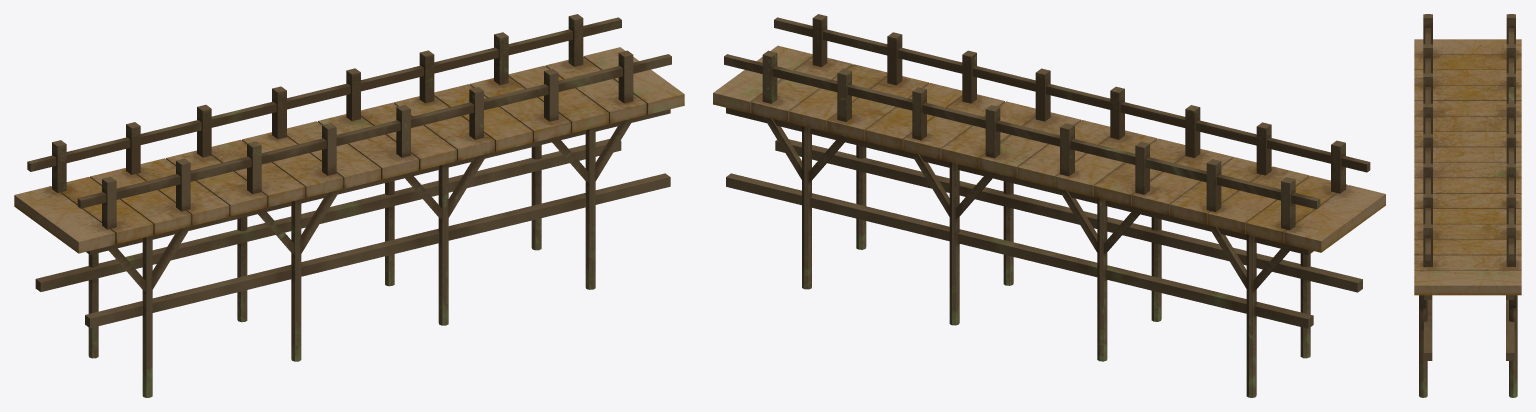
The model's file is Puente de madera I.fbx.
The picture shows the model from 3 angles, left to right: view 1: azimuth 30°, elevation 25°; view 2: azimuth 150°, elevation 25°; view 3: azimuth 270°, elevation 25°; orthographic projection. The views are drawn at different scales.
Parts seen in each view (by area): view 1: puente3.044, puente3.045, puente3.022, puente3.023, puente3.021, puente3.046, puente3.019, puente3.011, puente3.008, puente3.013, puente3.004, puente3.006 (+37 smaller); view 2: puente3.045, puente3.044, puente3.023, puente3.022, puente3.021, puente3.051, puente3.019, puente3.011, puente3.008, puente3.013, puente3.004, puente3.006 (+37 smaller); view 3: puente3.001, puente3.003, puente3.011, puente3.002, puente3.004, puente3.007, puente3.009, puente3.012, puente3.017, puente3.021, puente3.005, puente3.006 (+26 smaller).
Part boxes in pixels (x1,y1,x2,y2): puente3.044: (85,173,670,328); puente3.045: (35,139,621,291); puente3.022: (77,54,671,208); puente3.023: (27,17,621,171); puente3.021: (14,186,115,253); puente3.046: (86,109,670,254); puente3.019: (90,168,191,234); puente3.011: (242,132,343,197); puente3.008: (318,114,418,179); puente3.013: (166,150,267,216); puente3.004: (469,77,570,142); puente3.006: (393,96,494,160); puente3.045: (726,173,1313,328); puente3.044: (775,139,1362,292); puente3.023: (724,54,1320,209); puente3.022: (774,17,1370,172); puente3.021: (1284,185,1385,252); puente3.051: (726,107,1313,255); puente3.019: (1208,166,1309,233); puente3.011: (1055,130,1157,196); puente3.008: (979,112,1081,178); puente3.013: (1132,149,1233,215); puente3.004: (827,76,928,141); puente3.006: (903,94,1004,159); puente3.001: (1414,270,1521,295); puente3.003: (1414,239,1521,255); puente3.011: (1414,131,1521,147); puente3.002: (1414,255,1521,270); puente3.004: (1414,224,1521,239); puente3.007: (1414,178,1521,193); puente3.009: (1414,147,1521,162); puente3.012: (1414,116,1521,131); puente3.017: (1414,85,1521,100); puente3.021: (1414,39,1521,54); puente3.005: (1414,209,1521,224); puente3.006: (1414,193,1521,208).
Size of the model in its own units: 1749 by 614 by 322.
Materials: 1 (1 with a texture image).
